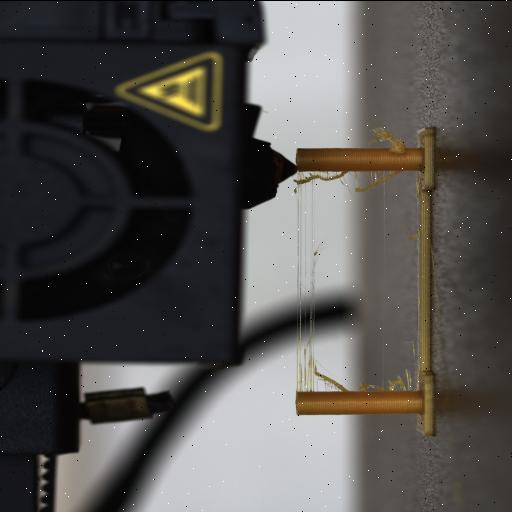stringing: (291, 168, 351, 392)
